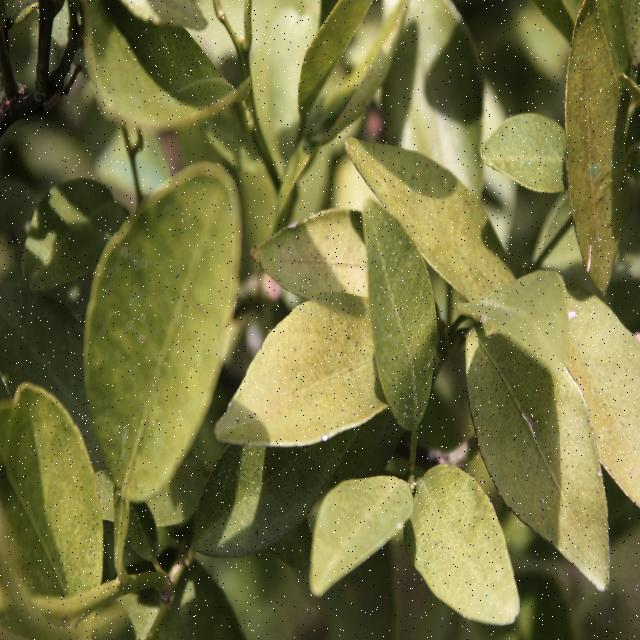blackspot: (223, 314, 364, 441), (472, 355, 565, 508), (246, 219, 358, 296), (215, 469, 283, 555), (368, 150, 432, 228)
